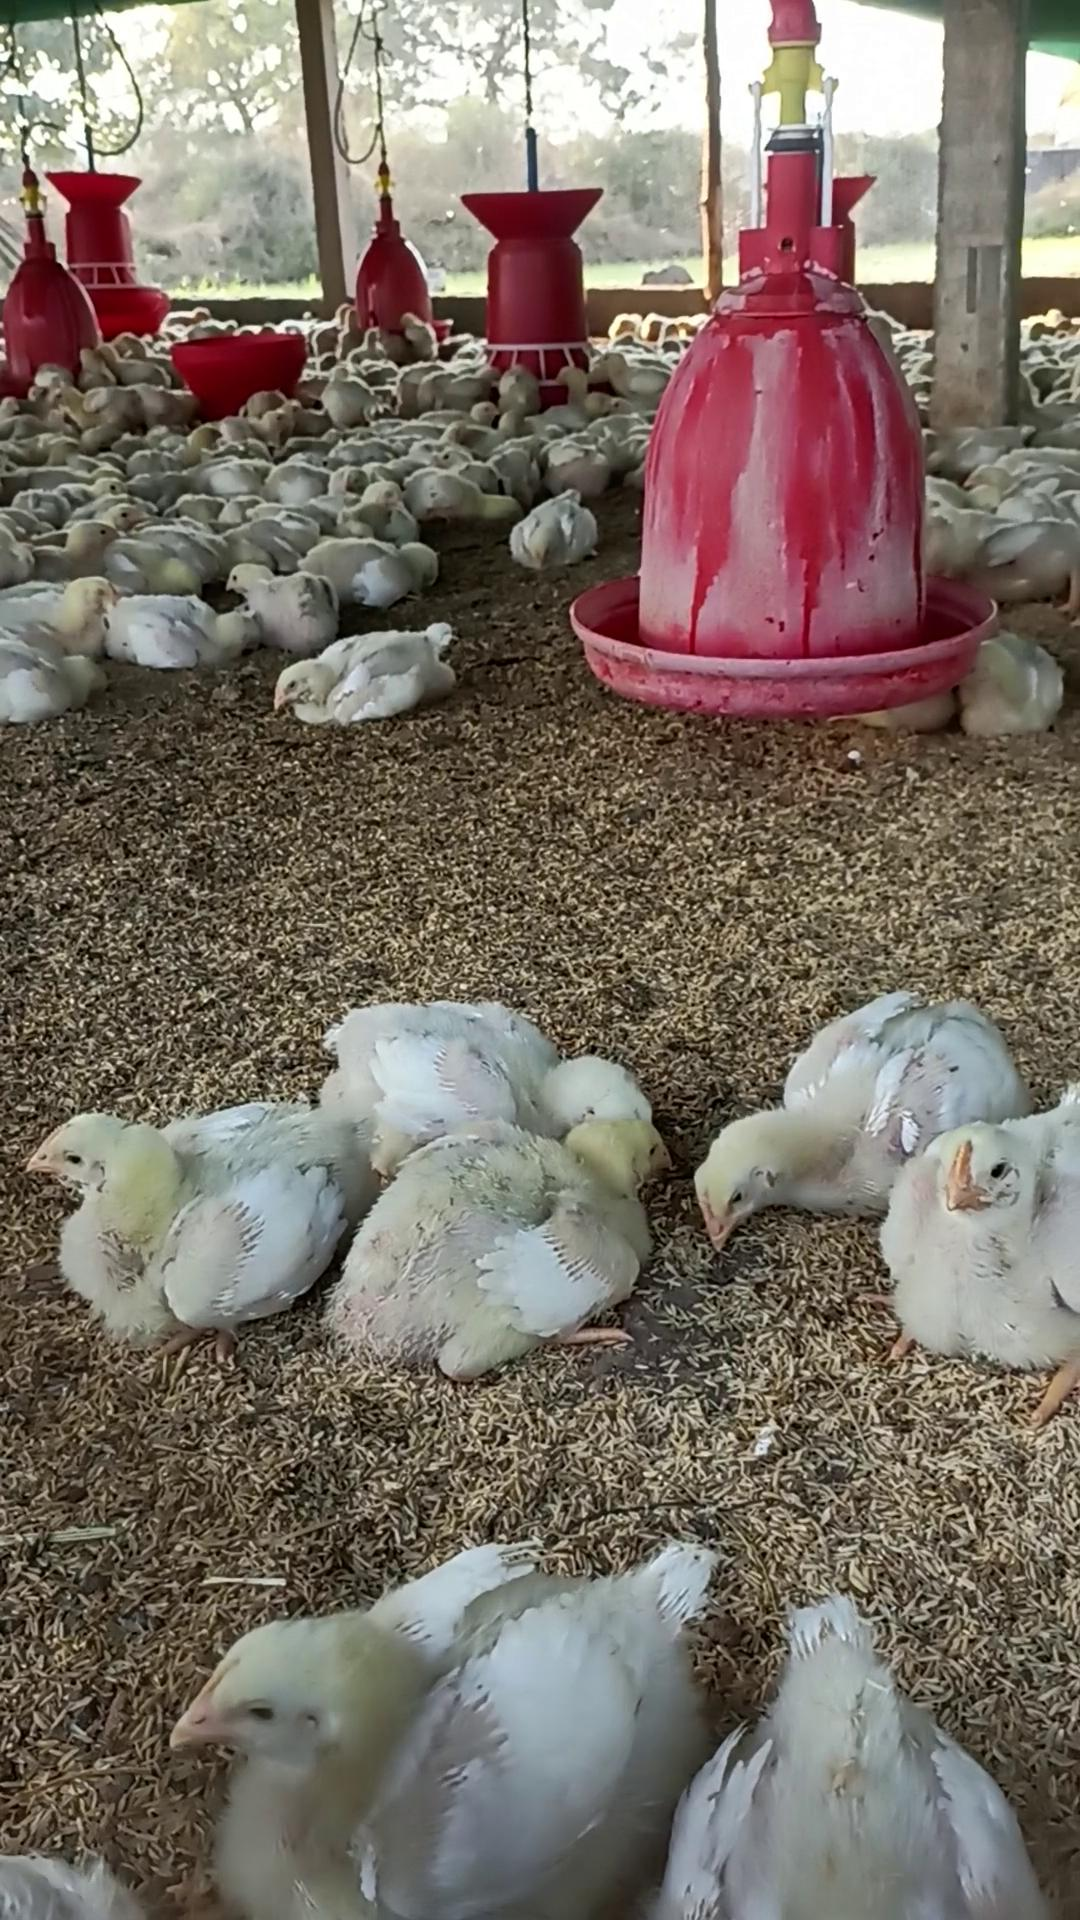Pollos: (169, 1518, 712, 1920), (674, 976, 1013, 1265), (342, 1101, 680, 1367), (18, 1106, 335, 1340), (909, 1095, 1080, 1356), (272, 612, 467, 737), (0, 571, 119, 725), (216, 549, 342, 649), (512, 473, 603, 571), (40, 518, 125, 574)
